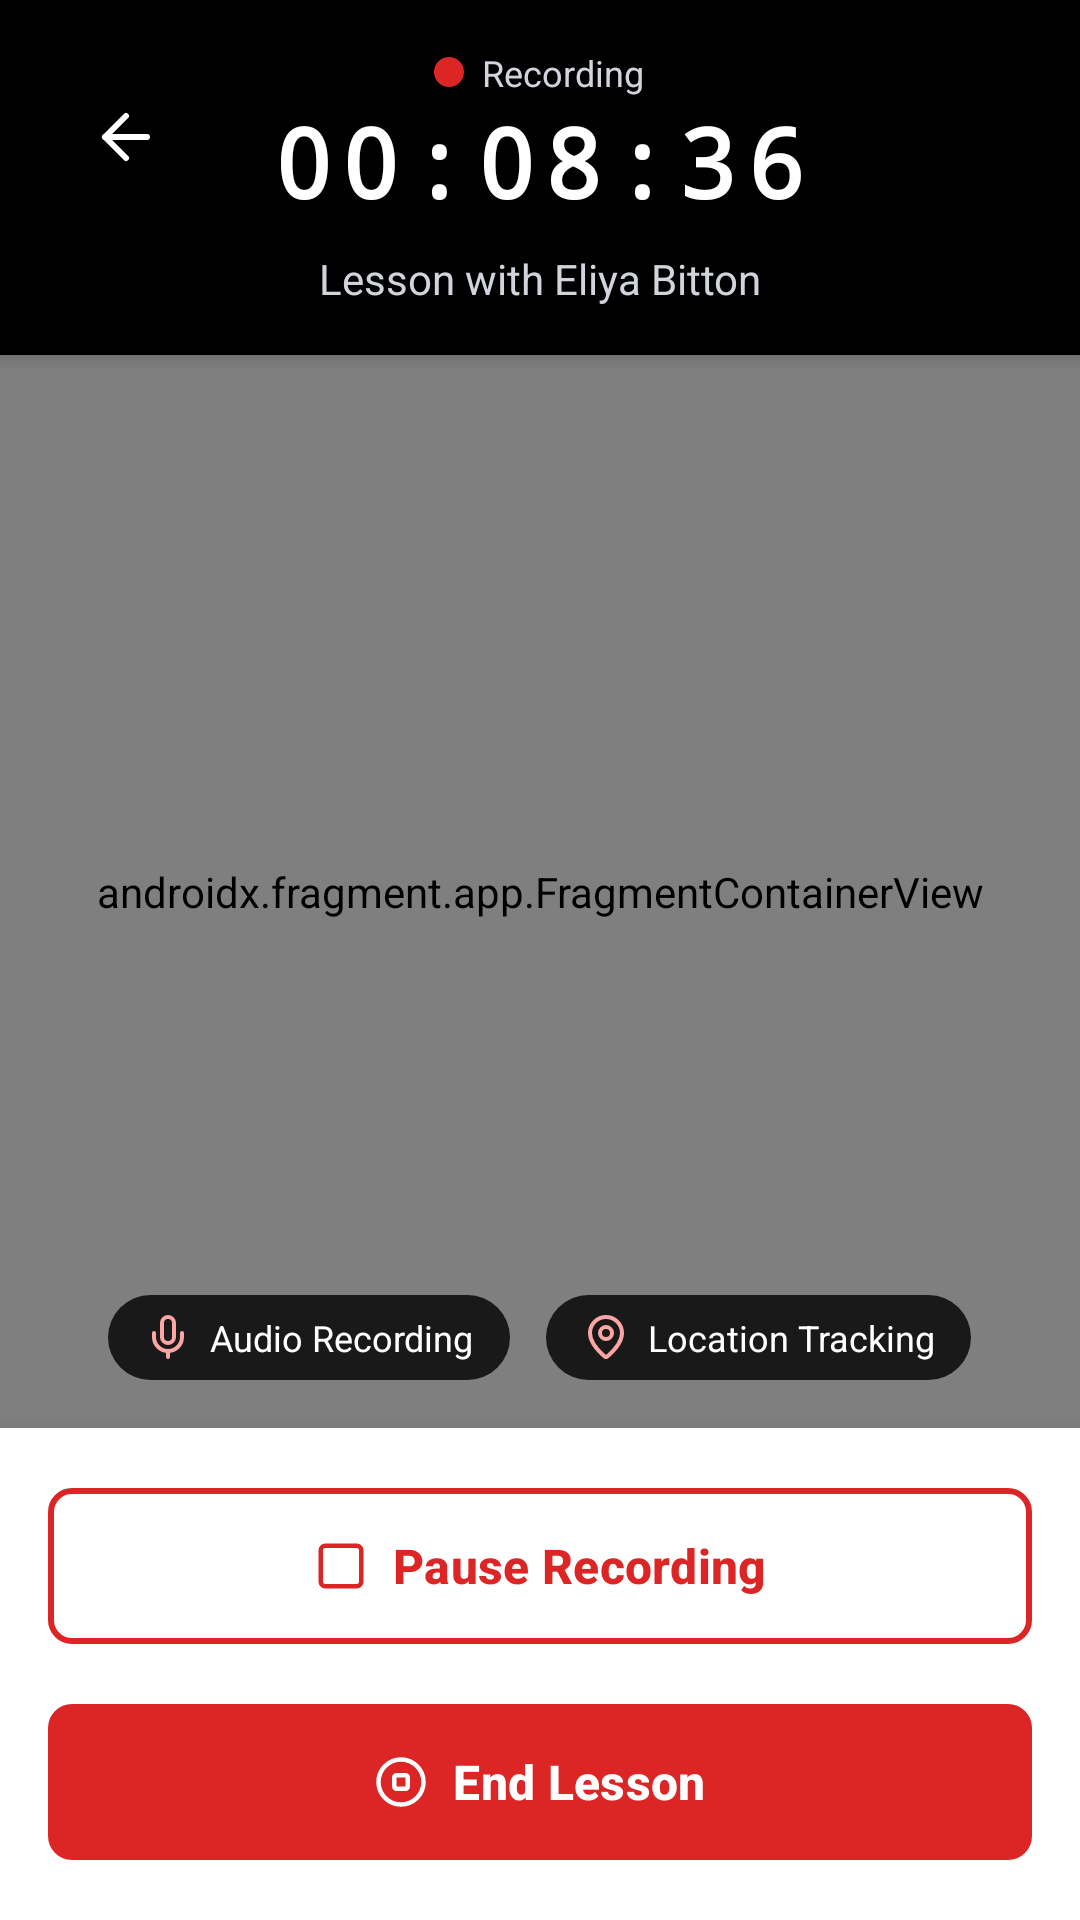

Icon click points for this 1080w x 1920h phone screenshot, format (x=x, y=y):
Back: (x=126, y=137)
map pin: (x=606, y=1337)
mic: (x=168, y=1337)
